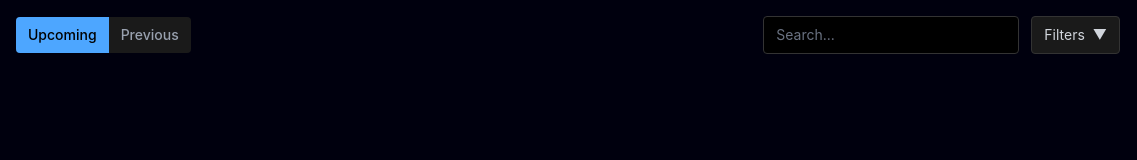
SearchBar › shows filter dropdowns after the Filters button is clicked
This screenshot has width=1137, height=160.
Click the button "Filters ▼" at (1076, 35), box [1031,16,1120,54]
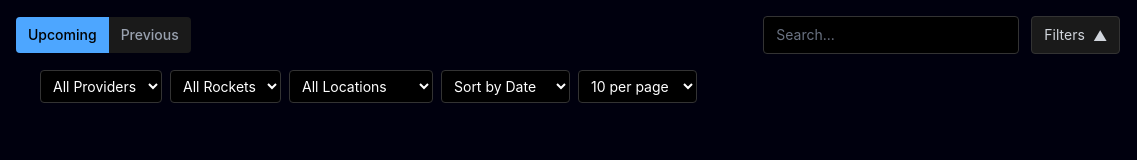
Expected: the 1st dropdown is shown, [40,70,162,103]
